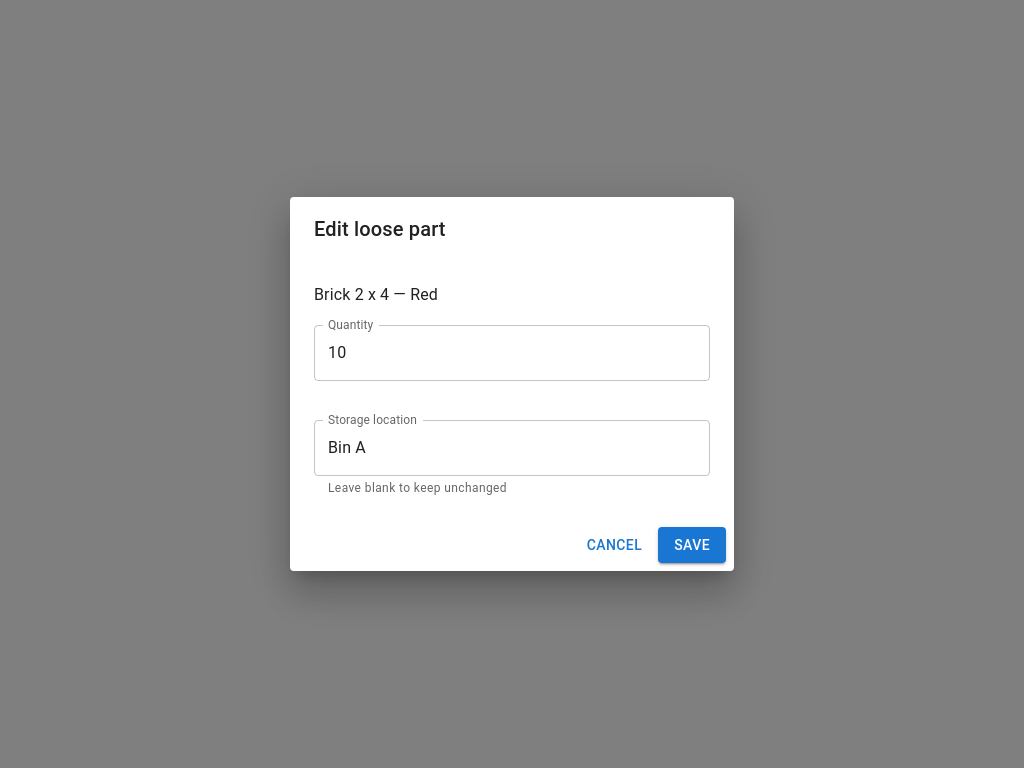
Test case: EditPartDialog › validates quantity of at least 1
The width and height of the screenshot is (1024, 768).
Replace the text in the number field labelled "Quantity" with "0" at (512, 353), box [314,325,710,381]
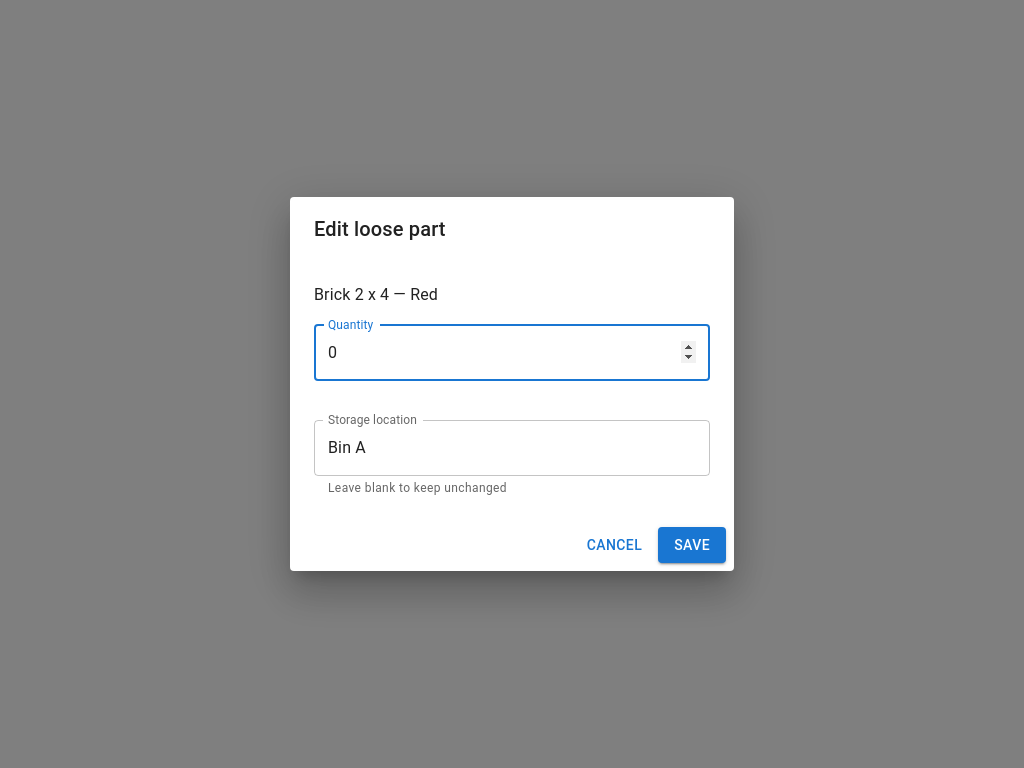
Click the button "Save" at (692, 545), box [658,527,726,563]
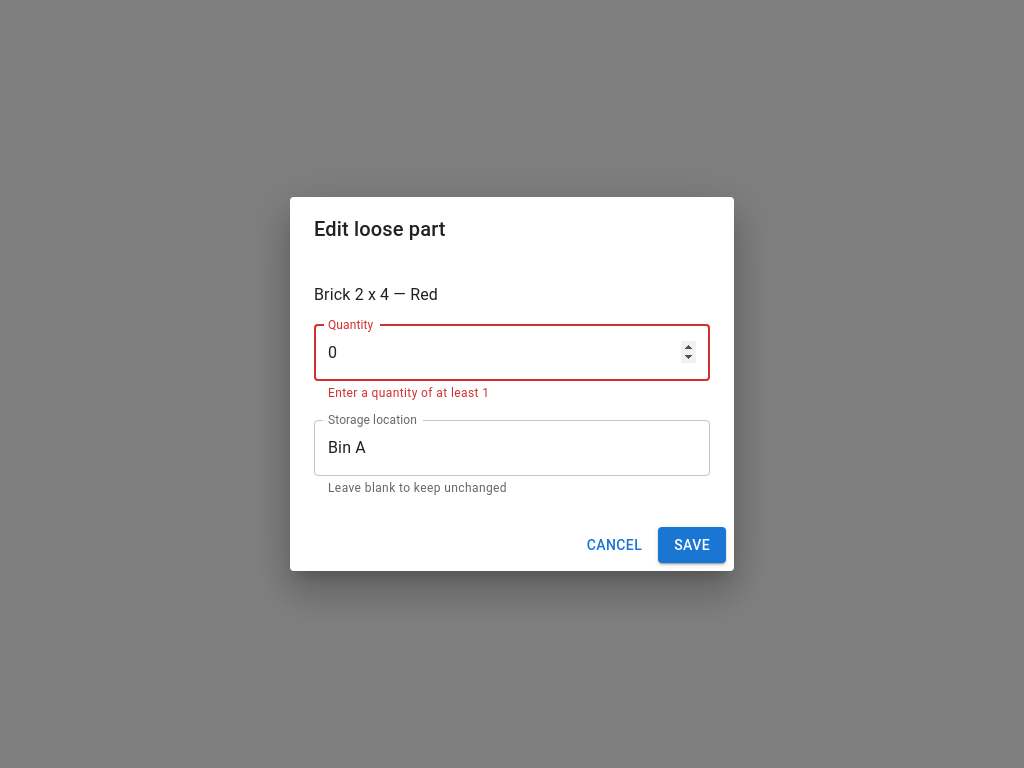
Check: the text "Enter a quantity of at least 1" is shown, box [328,386,489,400]
